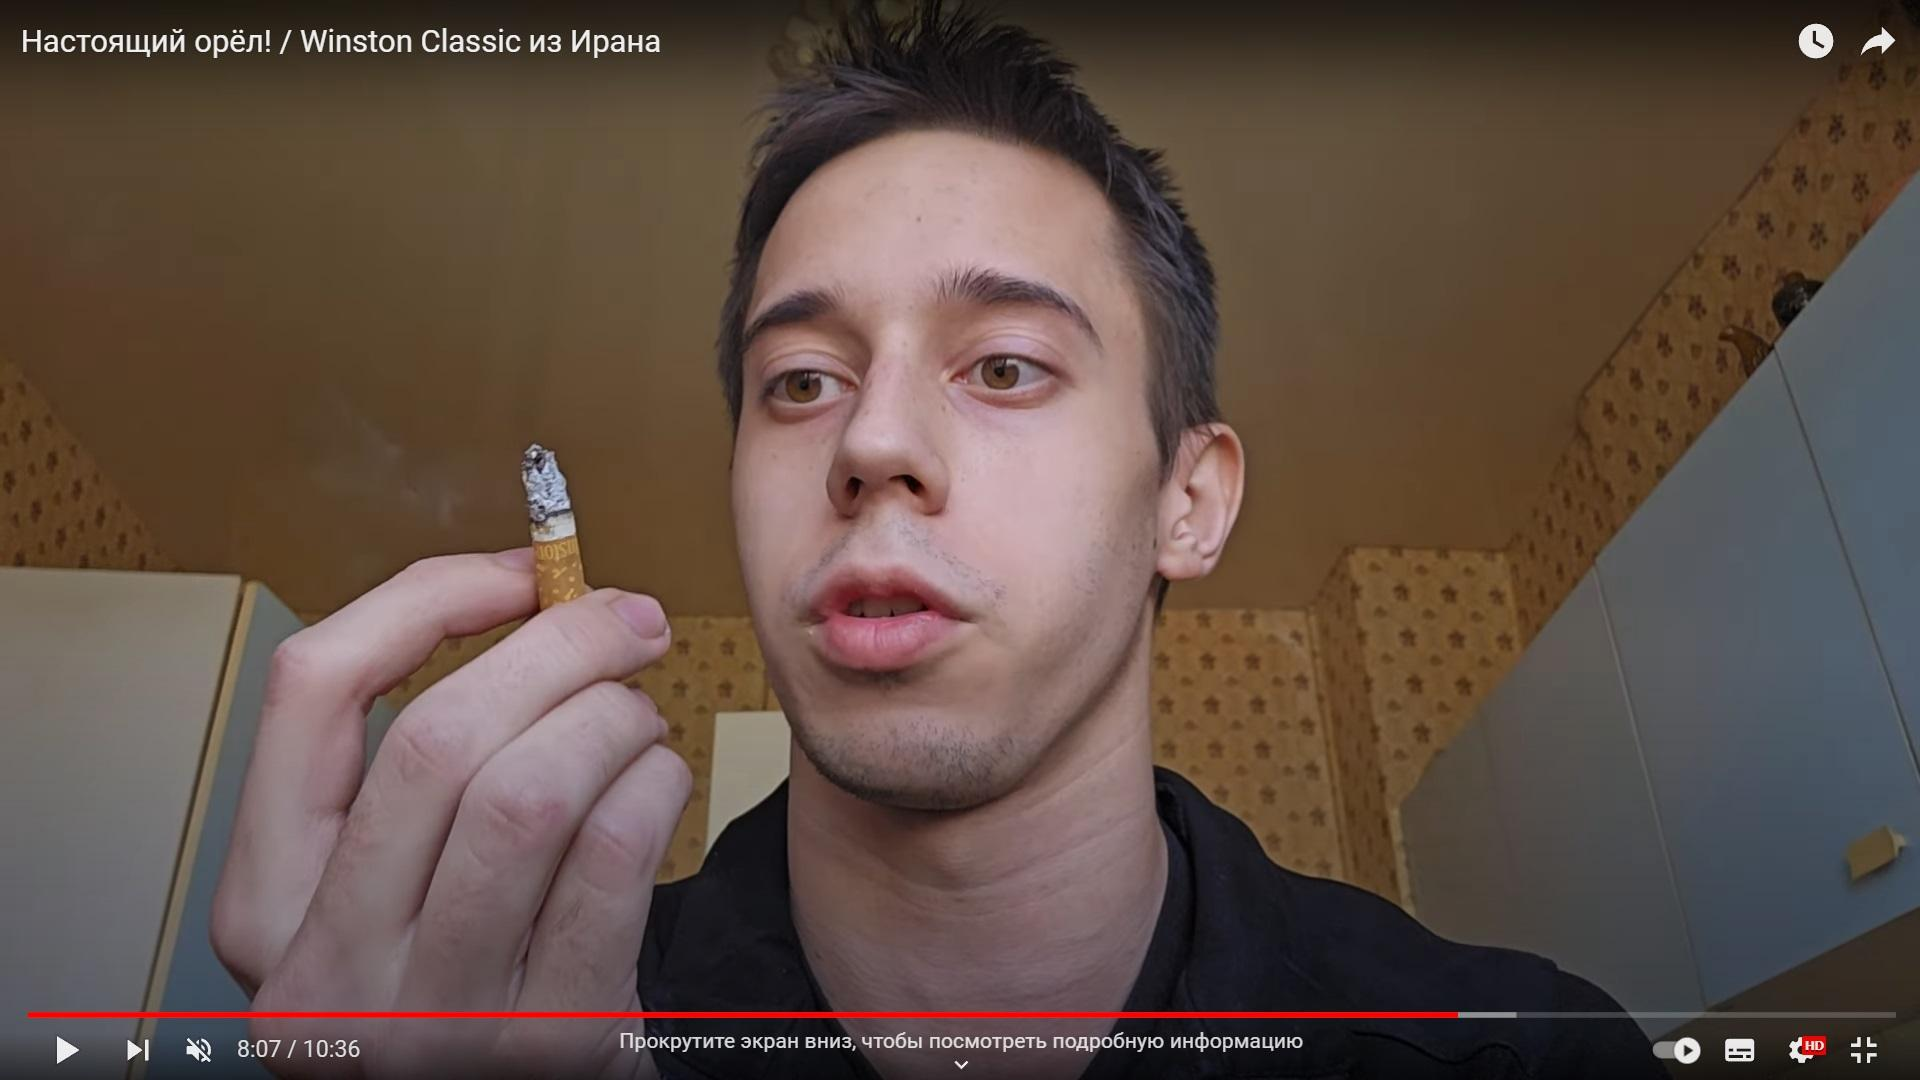cigarette: (520, 443, 588, 611)
